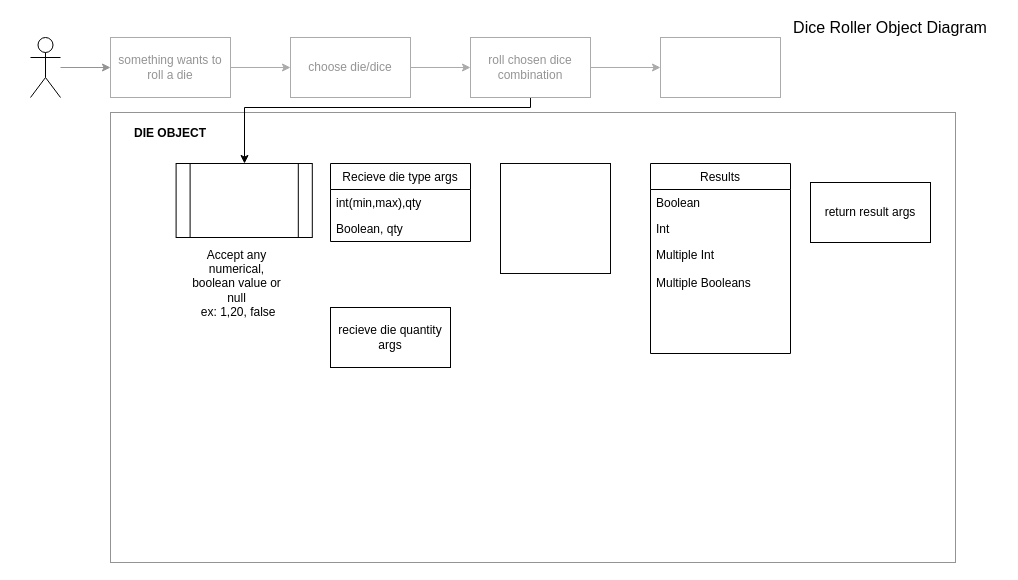
Image size: 1018x580. Some labels were removed from this diagram. The shapes that lost their labels are listed below. From the top down, each one's centre as x and y in pixels, then its label:
At (45,67): "Something".
At (720,67): "return die/dice roll result".
At (243,200): "die rolling function (min,max),qty".
At (555,218): "Perform calculations".
